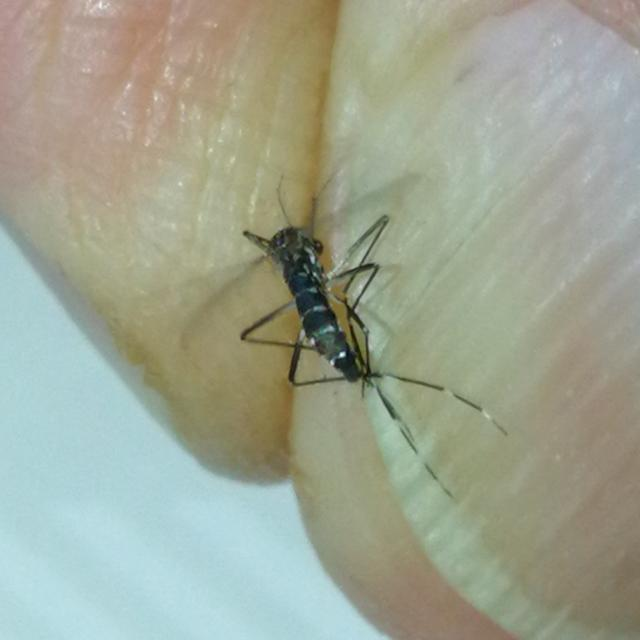albopictus: (217, 152, 510, 501)
